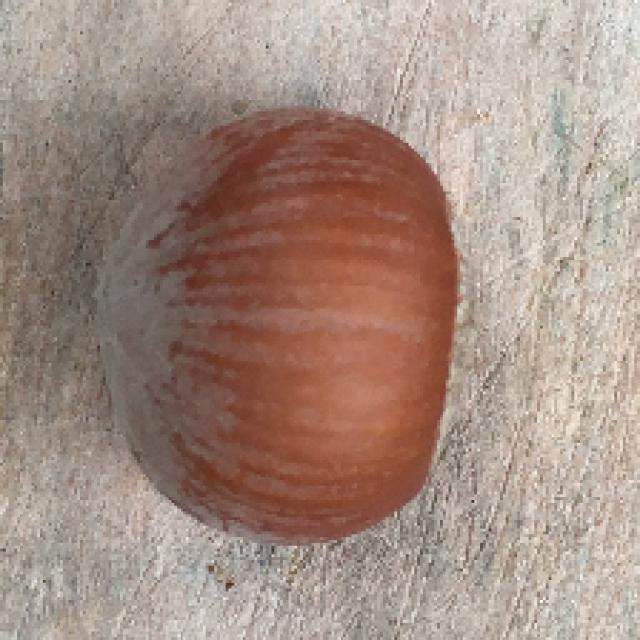QualityHazelnut: (94, 107, 482, 546)
